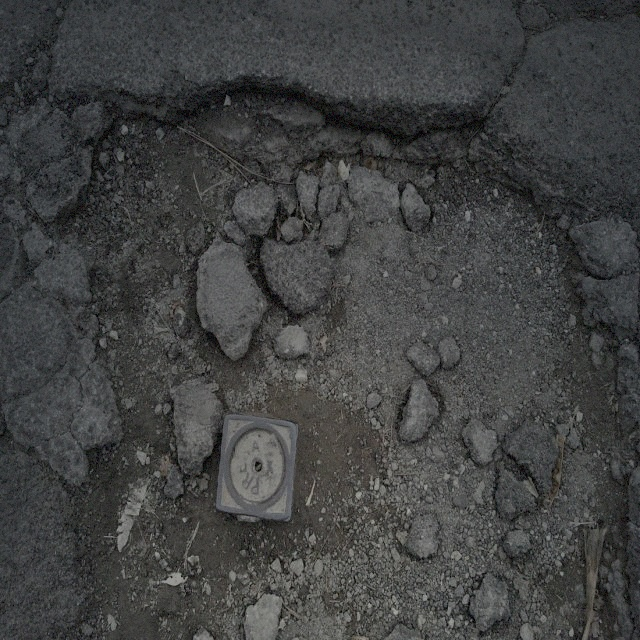pothole: (74, 66, 594, 455)
